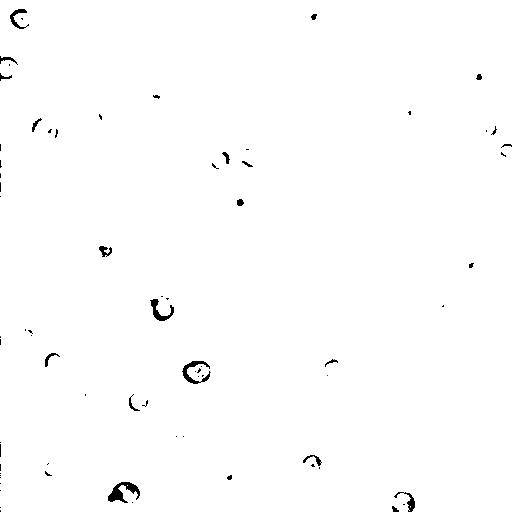micro-algae: (189, 318, 265, 391), (59, 139, 130, 209), (212, 344, 271, 396), (209, 132, 256, 173), (471, 467, 512, 512), (66, 388, 109, 425), (1, 147, 35, 190), (93, 478, 136, 512), (376, 247, 415, 282), (75, 373, 111, 406), (432, 289, 468, 322), (30, 112, 61, 147), (218, 464, 249, 498), (91, 100, 124, 131), (135, 289, 165, 321), (458, 252, 488, 282), (27, 0, 59, 28), (300, 453, 327, 484), (181, 359, 213, 385), (405, 304, 435, 330), (150, 292, 175, 321), (472, 0, 501, 25), (112, 481, 142, 505), (301, 5, 328, 30), (78, 182, 105, 206), (399, 102, 423, 129), (18, 322, 42, 348), (262, 101, 287, 125), (388, 148, 413, 172), (234, 146, 260, 169), (322, 357, 344, 382), (391, 491, 417, 512), (9, 7, 32, 30), (1, 55, 21, 81), (142, 442, 166, 463), (128, 390, 150, 412), (44, 351, 65, 374), (467, 64, 487, 87), (95, 237, 115, 259), (210, 152, 233, 170), (42, 460, 62, 478), (228, 193, 251, 208), (483, 120, 499, 140), (171, 423, 188, 440), (444, 76, 458, 91), (499, 143, 512, 158), (294, 504, 317, 512)
